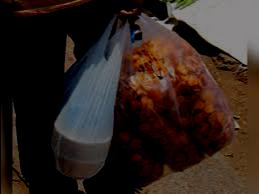Plastic: (47, 10, 131, 182)
